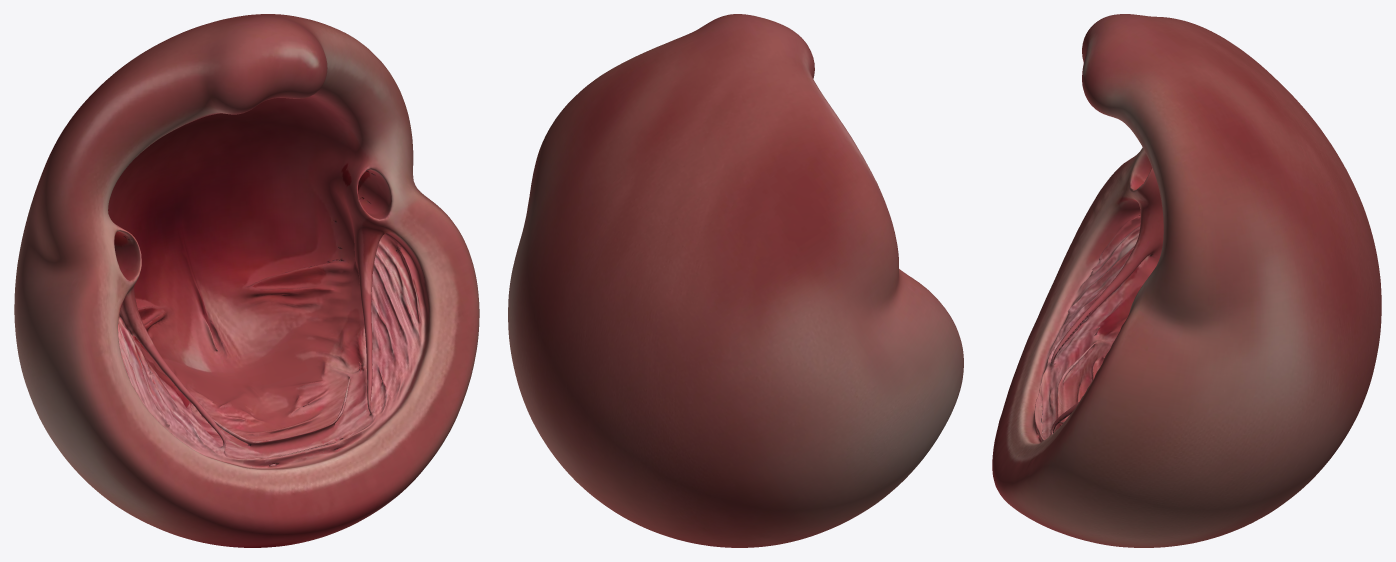
File: vet_v2_organ_cat_bladder.glb
3 views of the same model, side by side, from view 1: azimuth 30°, elevation 25°; view 2: azimuth 150°, elevation 25°; view 3: azimuth 270°, elevation 25° (orthographic).
Parts seen in each view (by area): view 1: model; view 2: model; view 3: model.
Part boxes in pixels (x1,y1,x2,y2): model: (14,14,479,547); model: (508,14,963,547); model: (992,14,1381,547).
Size of the model in its own units: 1.62 by 1.9 by 1.33.
Materials: 1 (1 with a texture image).
